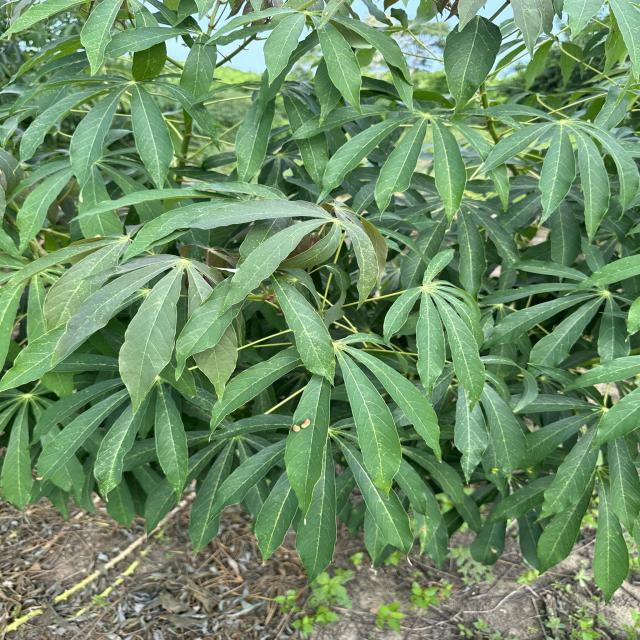Mosca: (285, 416, 311, 436), (486, 462, 500, 478), (490, 543, 500, 558)
